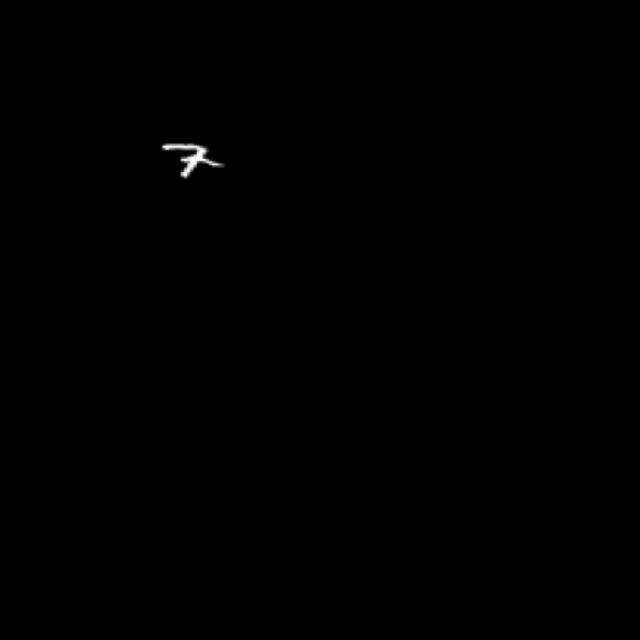seven -7-: (151, 132, 230, 192)
